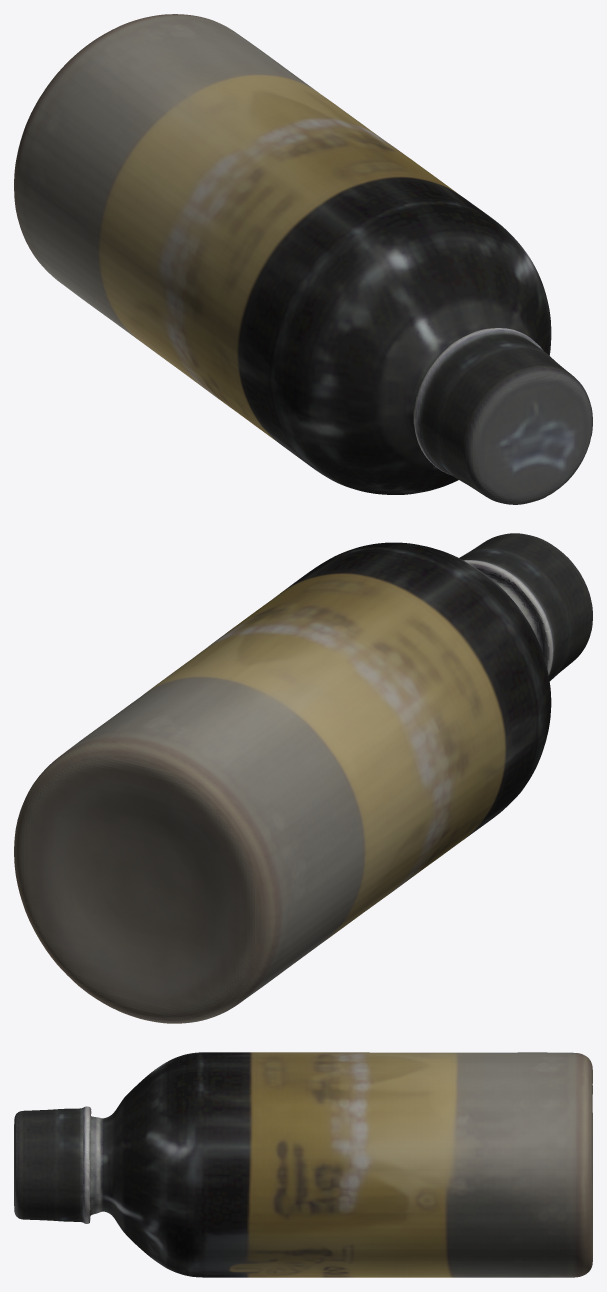
The picture shows the model from 3 angles, top to bottom: view 1: azimuth 30°, elevation 25°; view 2: azimuth 150°, elevation 25°; view 3: azimuth 270°, elevation 25°; orthographic projection. The views are drawn at different scales.
Parts seen in each view (by area): view 1: mesh.obj; view 2: mesh.obj; view 3: mesh.obj.
Boxes of the visible parts, x1,y1,x2,y2 form: mesh.obj: [14, 14, 592, 504]; mesh.obj: [14, 533, 592, 1023]; mesh.obj: [14, 1052, 592, 1277].
Bounding box in the file's own units: 0.0744 × 0.0743 × 0.1899.
